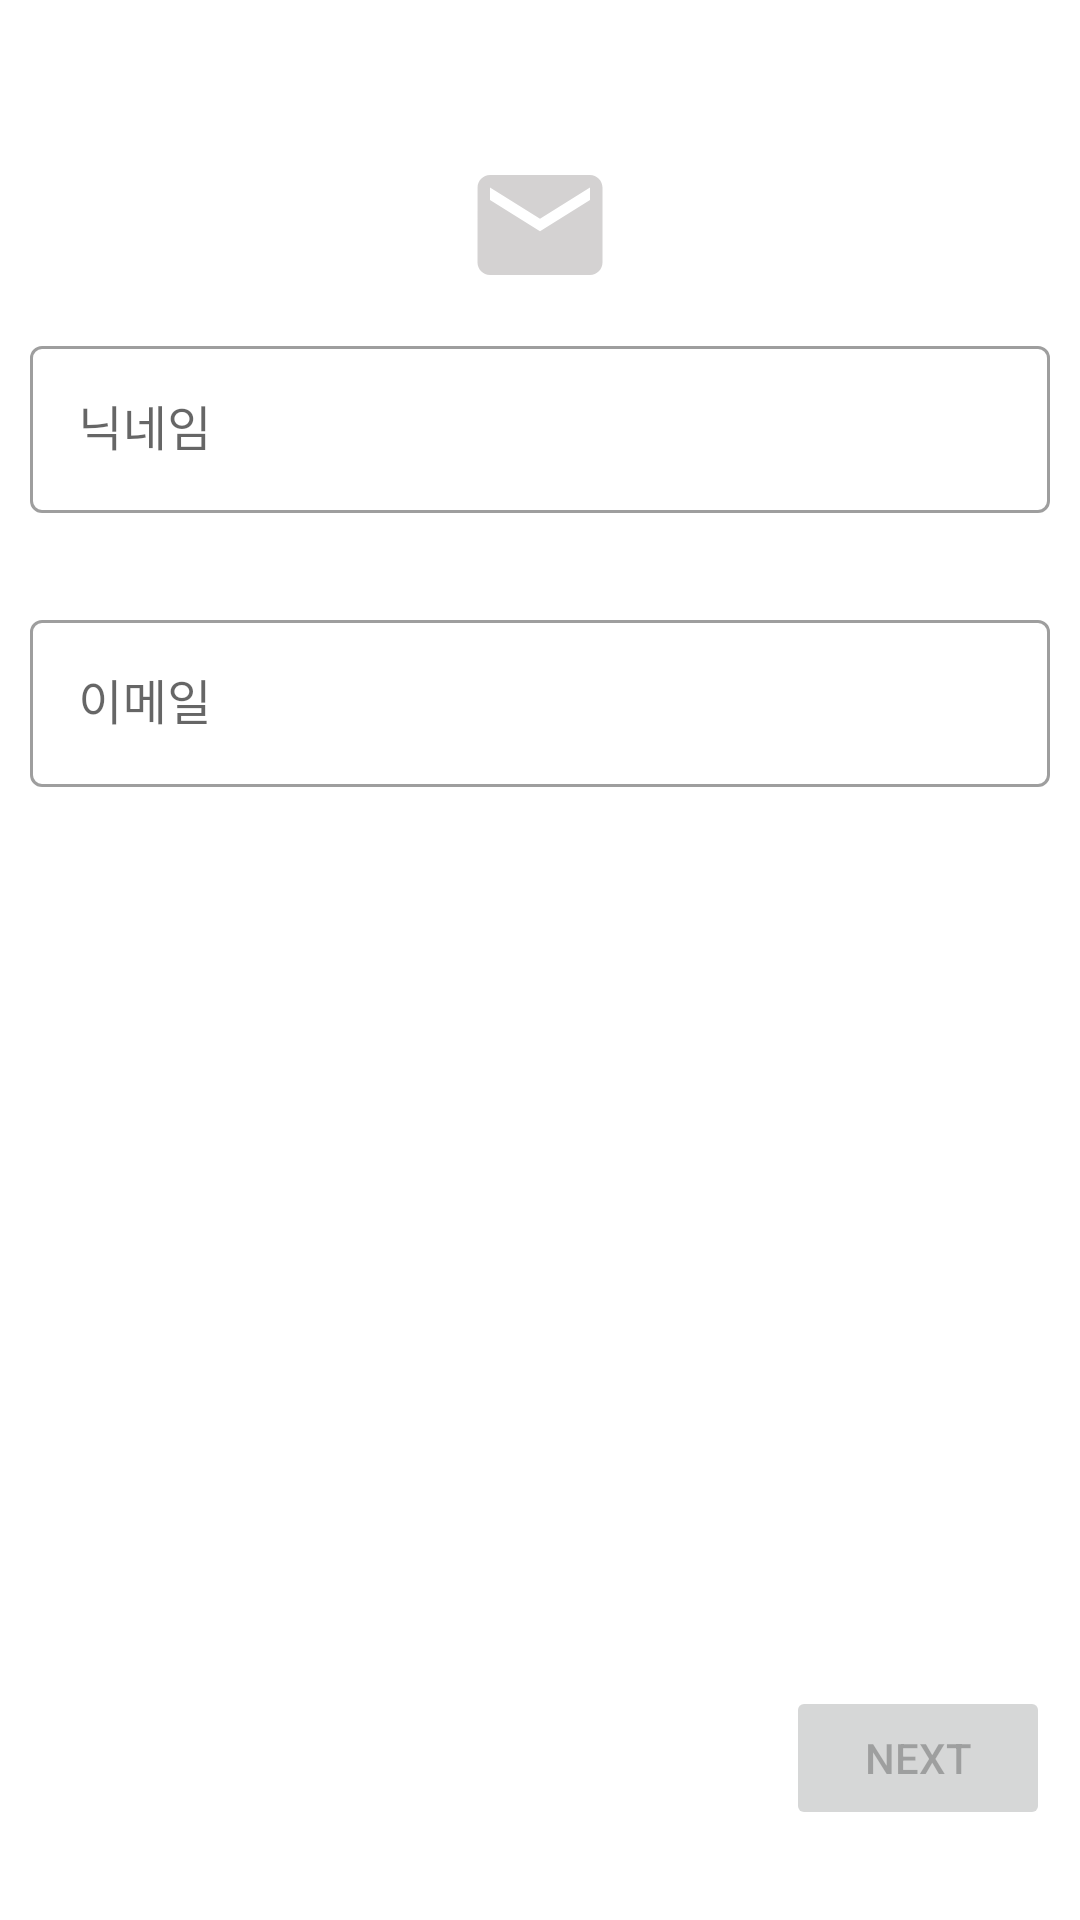

Icon bounding boxes for this 1080 x 1920 phone screenshot, format (x1, y1, x2, y2):
email: (478, 175, 602, 275)
